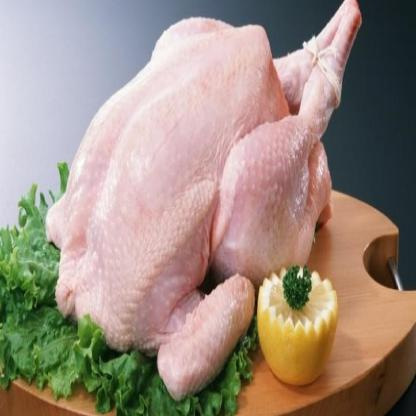chicken: (44, 7, 357, 368)
